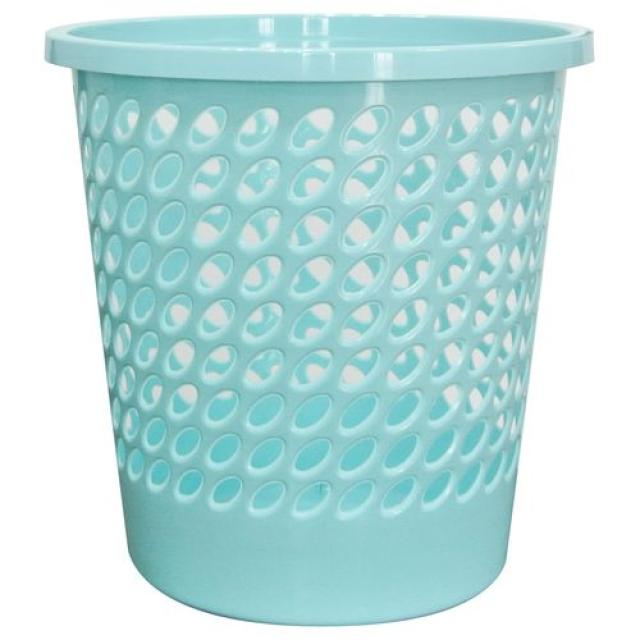dustbin: (42, 7, 599, 626)
